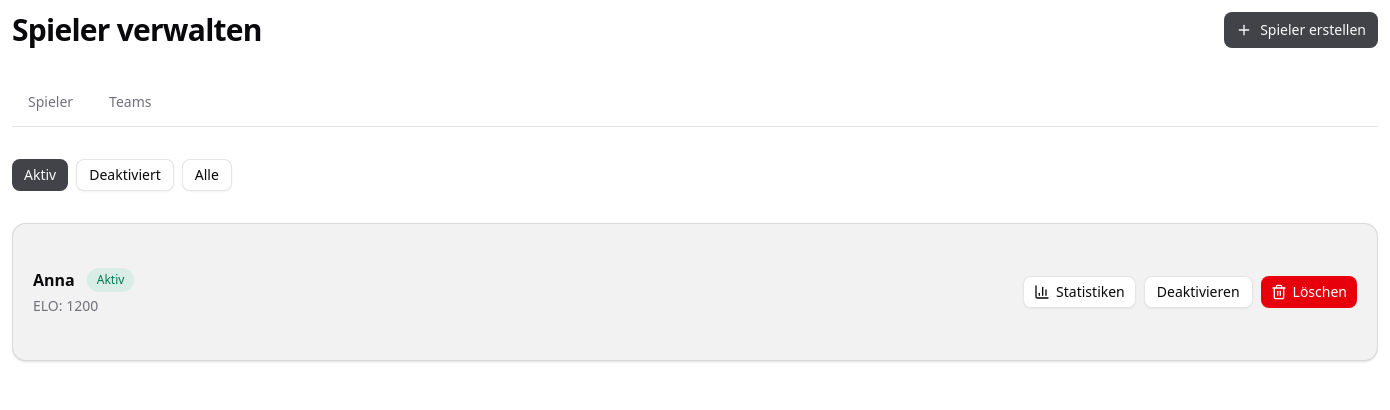
Scenario: PlayersPage mutations › offers a filter reset instead of active creation for disabled players
expect the heading "Anna" is shown: met, box [33,268,75,292]
Click the button "Deaktiviert": (125, 175) [76,159,174,191]
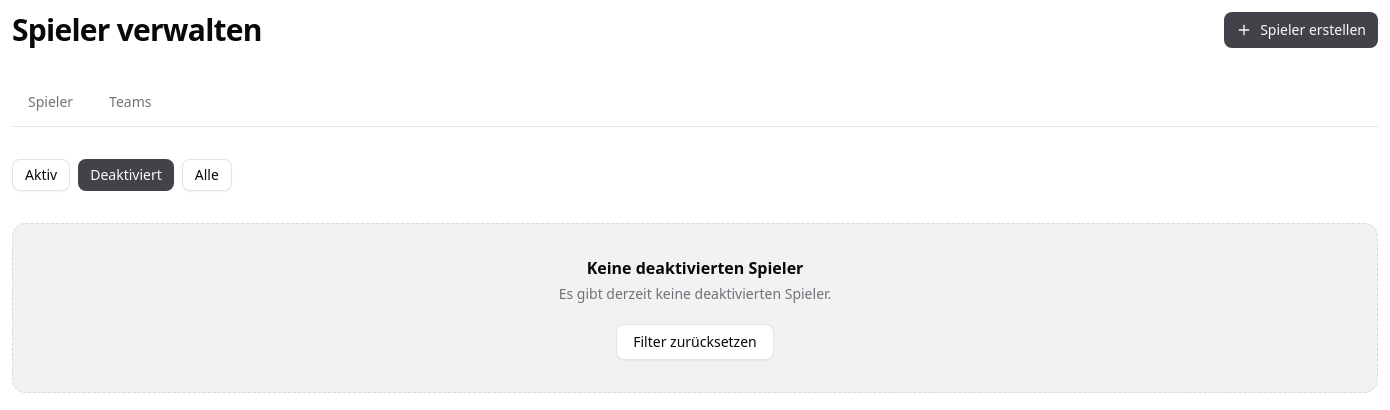
expect the heading "Keine deaktivierten Spieler" is shown: met, box [587,256,803,280]
expect the button "Filter zurücksetzen" is shown: met, box [616,324,774,360]
expect the text "Es gibt derzeit keine deaktivierten Spieler." is shown: met, box [559,284,831,304]
